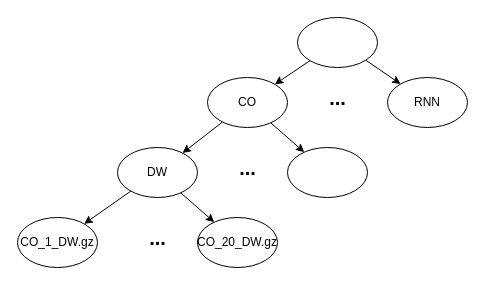
The diagram is 485 pixels wide and 285 high, and some of its shapes have lost their labels. Here are the shapes that lost their labels. From the top down, the centre of each, then its label:
the point at 337,42: NILMTK
the point at 327,172: WM
